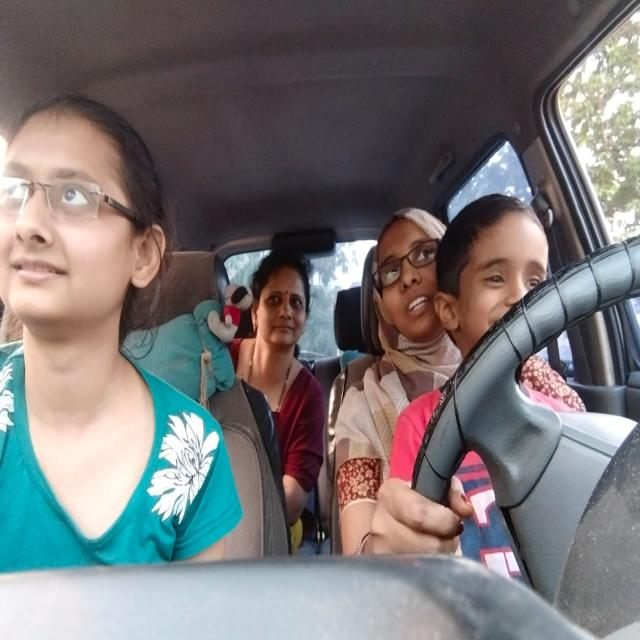child: (438, 192, 572, 365)
person: (0, 94, 182, 368), (360, 195, 441, 355), (238, 234, 326, 381)
